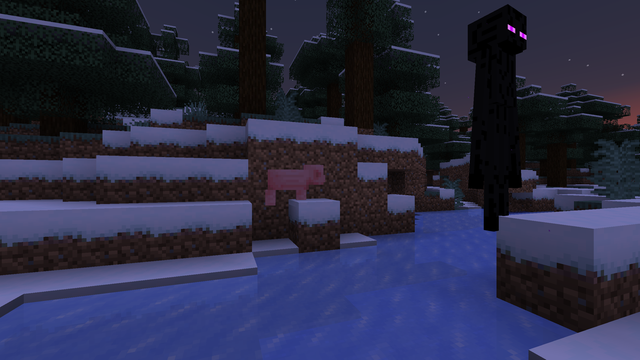cochons: (269, 168, 309, 206)
endermens: (461, 0, 534, 229)
